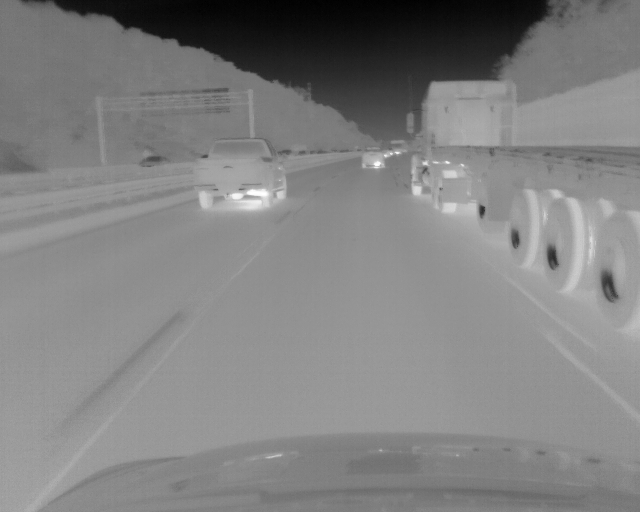car: (405, 80, 640, 331), (191, 138, 287, 211), (361, 145, 386, 168), (137, 153, 169, 168), (280, 150, 293, 157), (298, 150, 307, 156), (384, 149, 389, 157), (389, 148, 394, 155)
